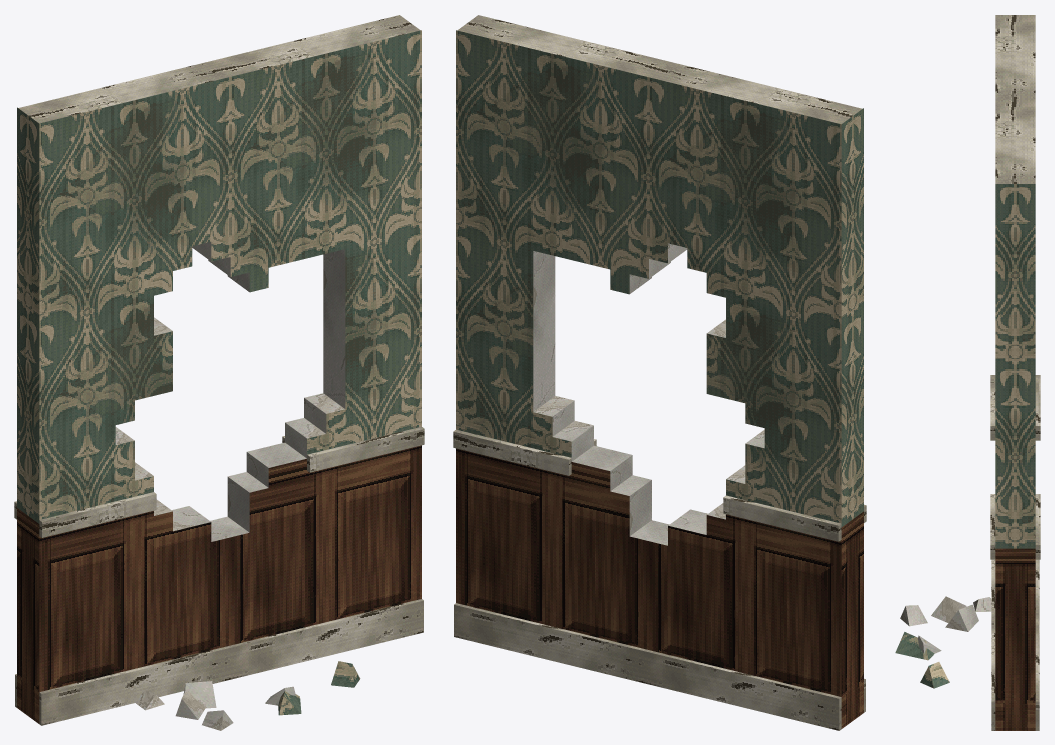
File: house_wall_broken.glb
3 renders of one model, left to right at view 1: azimuth 30°, elevation 25°; view 2: azimuth 150°, elevation 25°; view 3: azimuth 270°, elevation 25°, orthographic. The views are drawn at different scales.
Parts seen in each view (by area): view 1: house_wall_broken; view 2: house_wall_broken; view 3: house_wall_broken.
Boxes of the visible parts, left/top/right/bottom form: house_wall_broken: left=14, top=15, right=424, bottom=730; house_wall_broken: left=453, top=15, right=866, bottom=730; house_wall_broken: left=895, top=15, right=1040, bottom=730.
Size of the model in its own units: 2 by 3 by 0.7231.
Materials: 4 (4 with a texture image).
